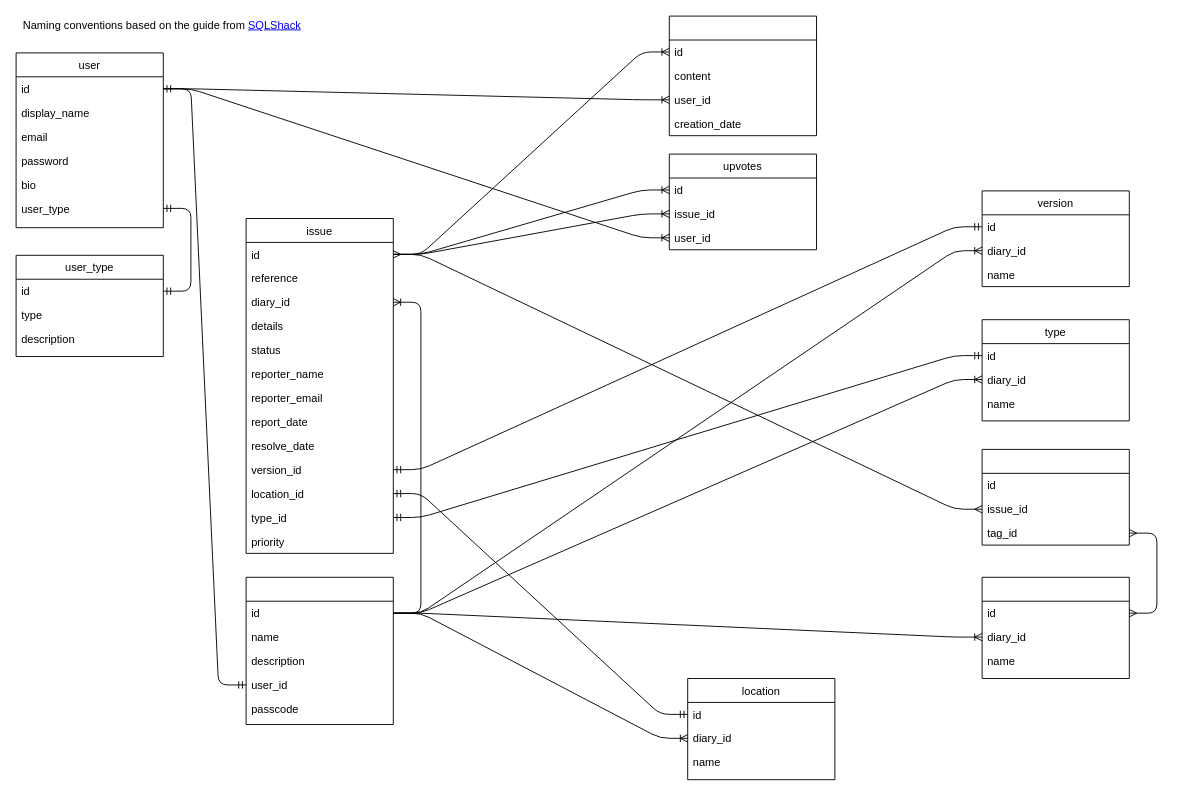
This 1181x796 diagram has some shape labels left out. The shapes that lost their labels are listed below. From the top down, each one's box as (x1, y1, x2, y2) in pixels, then its label:
(668, 15, 816, 136): comment
(981, 448, 1129, 545): issue_tag
(981, 576, 1129, 678): tag
(245, 576, 393, 724): diary
